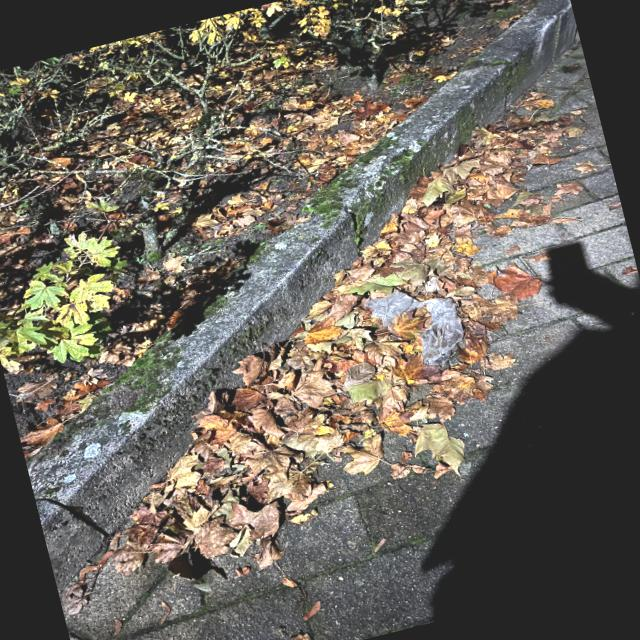leaves: (97, 93, 584, 580)
pavement: (64, 30, 639, 639)
plants: (0, 0, 530, 447)
